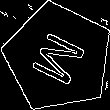M_SE: (25, 26, 91, 89)
